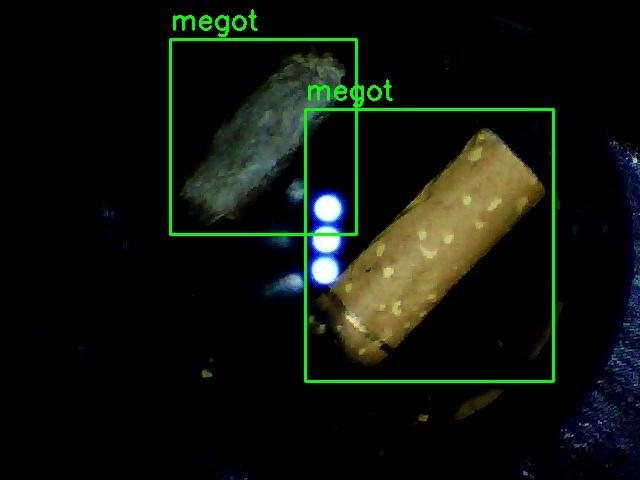megot: (305, 109, 553, 381), (170, 39, 356, 234)
